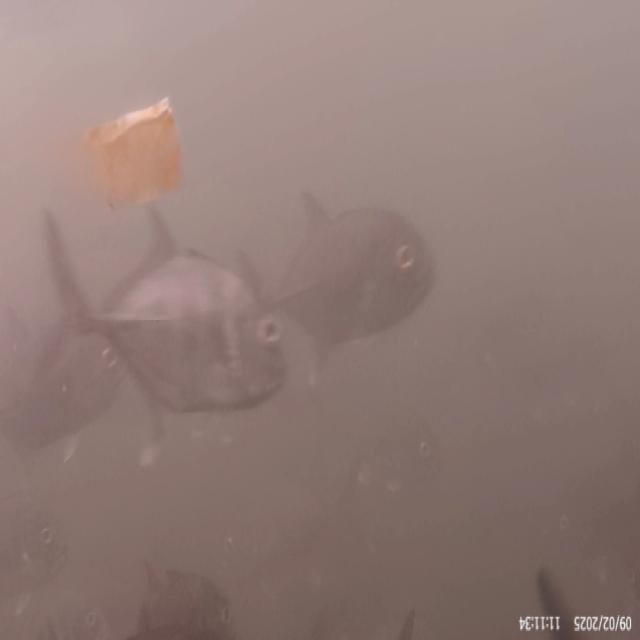ikan: (46, 192, 284, 438), (275, 158, 470, 351)
